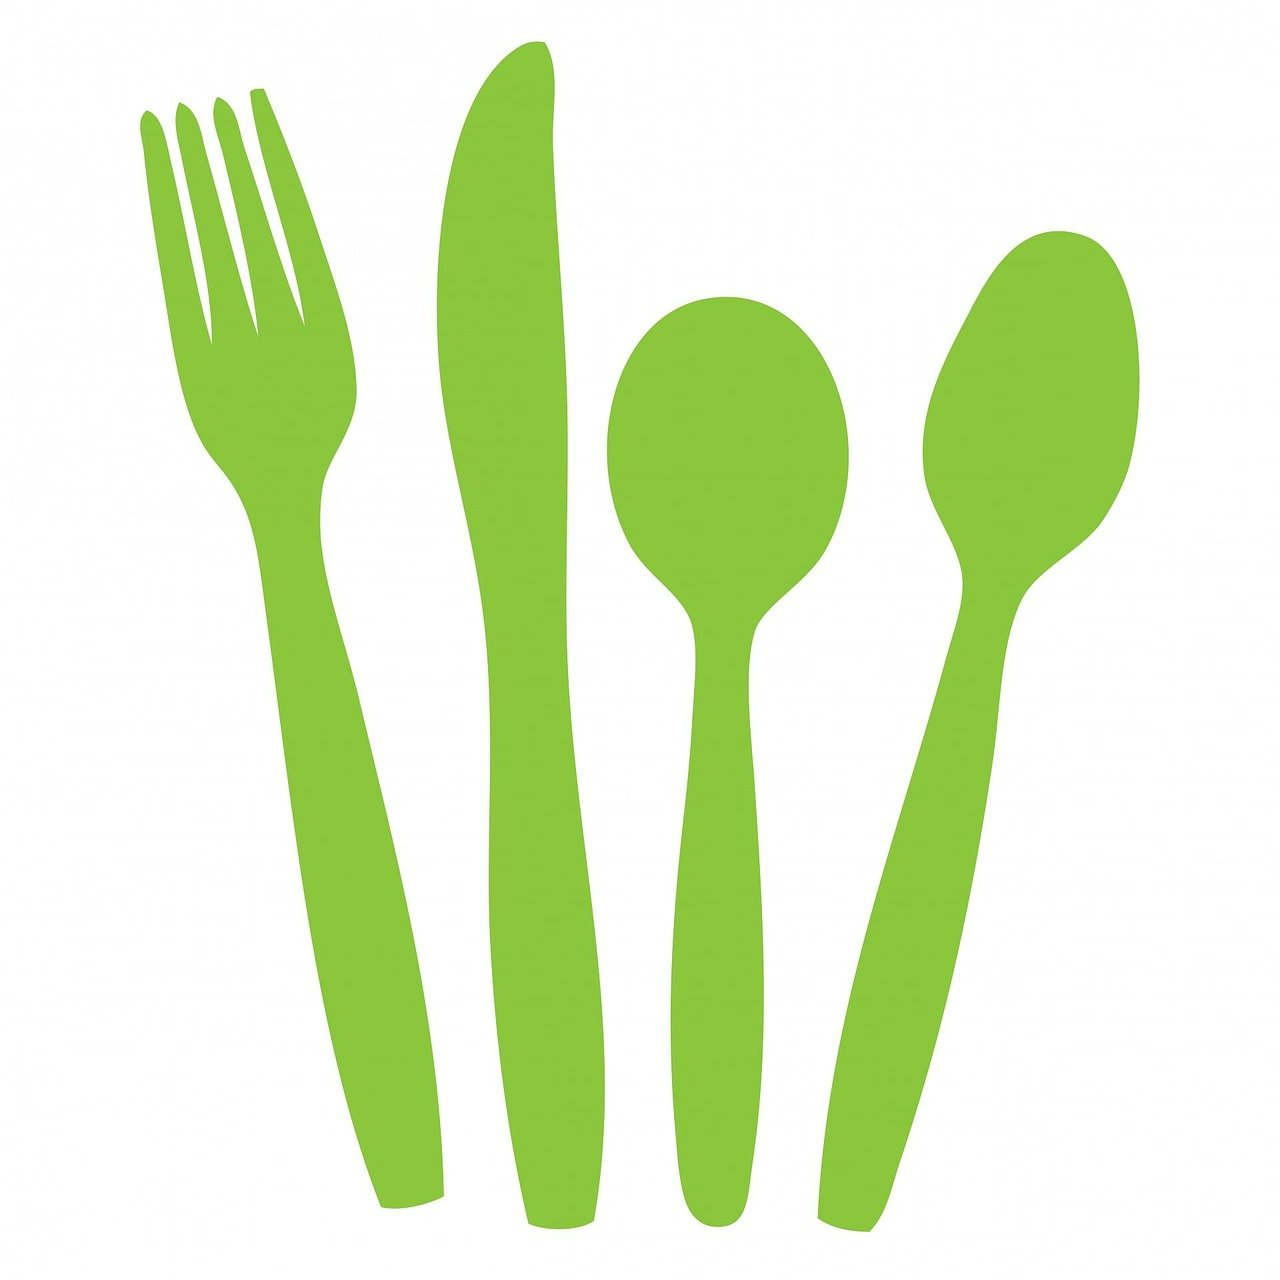knife: (425, 35, 602, 1235)
